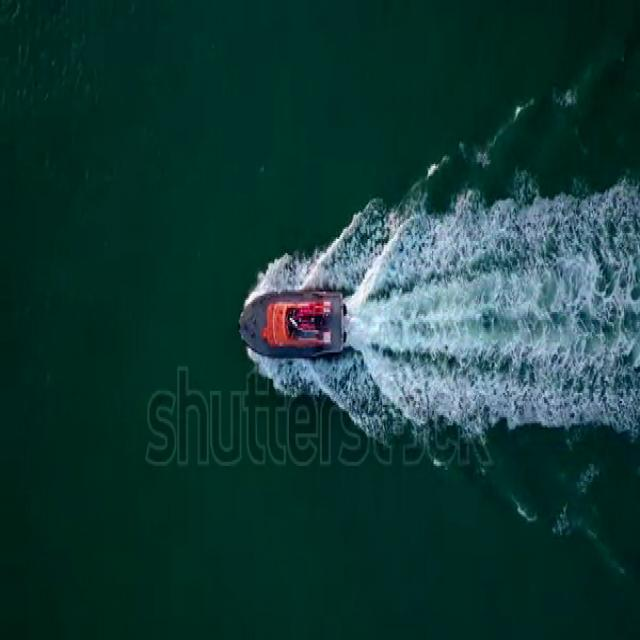ship: (236, 284, 350, 358)
